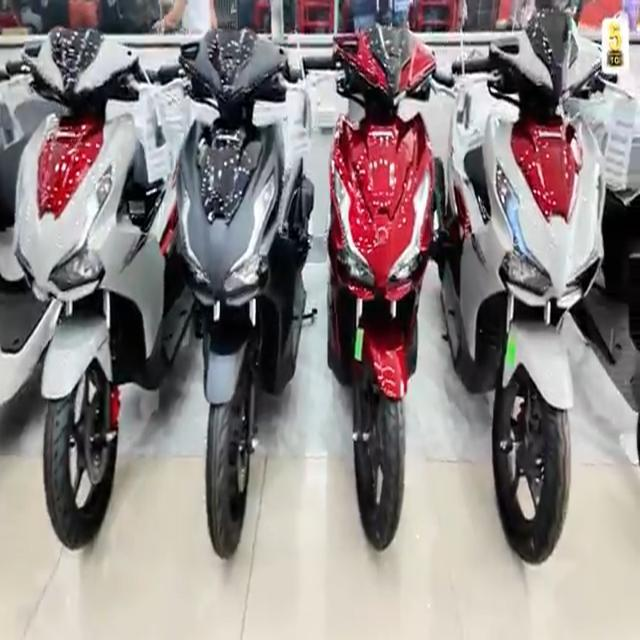motorcycle: (445, 15, 625, 599), (148, 19, 316, 579), (0, 5, 157, 584), (316, 22, 458, 583)
